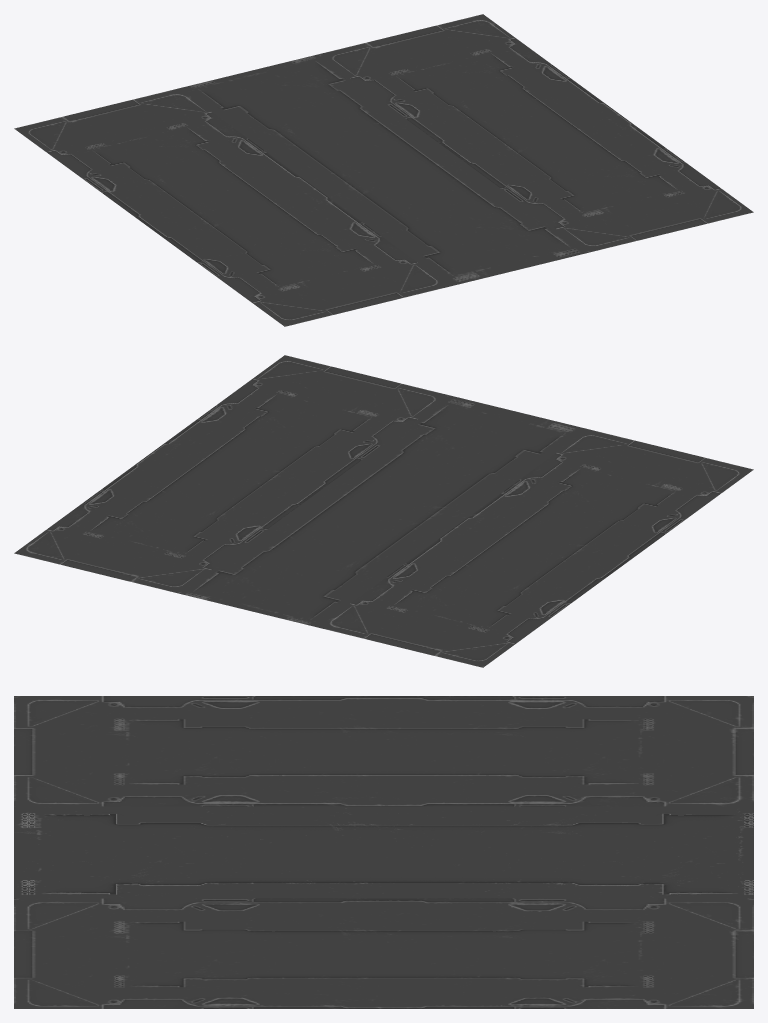
The model's file is platform_dark_plates.glb.
The picture shows the model from 3 angles, top to bottom: view 1: azimuth 30°, elevation 25°; view 2: azimuth 150°, elevation 25°; view 3: azimuth 270°, elevation 25°; orthographic projection. The views are drawn at different scales.
Parts seen in each view (by area): view 1: Platform_DarkPlates; view 2: Platform_DarkPlates; view 3: Platform_DarkPlates.
Boxes of the visible parts, box(x1,y1,x2,y2) form: Platform_DarkPlates: box(14, 14, 753, 326); Platform_DarkPlates: box(14, 355, 753, 667); Platform_DarkPlates: box(14, 696, 753, 1008).
Bounding box in the file's own units: 4 × 0 × 4.
1 material, 1 textured.
